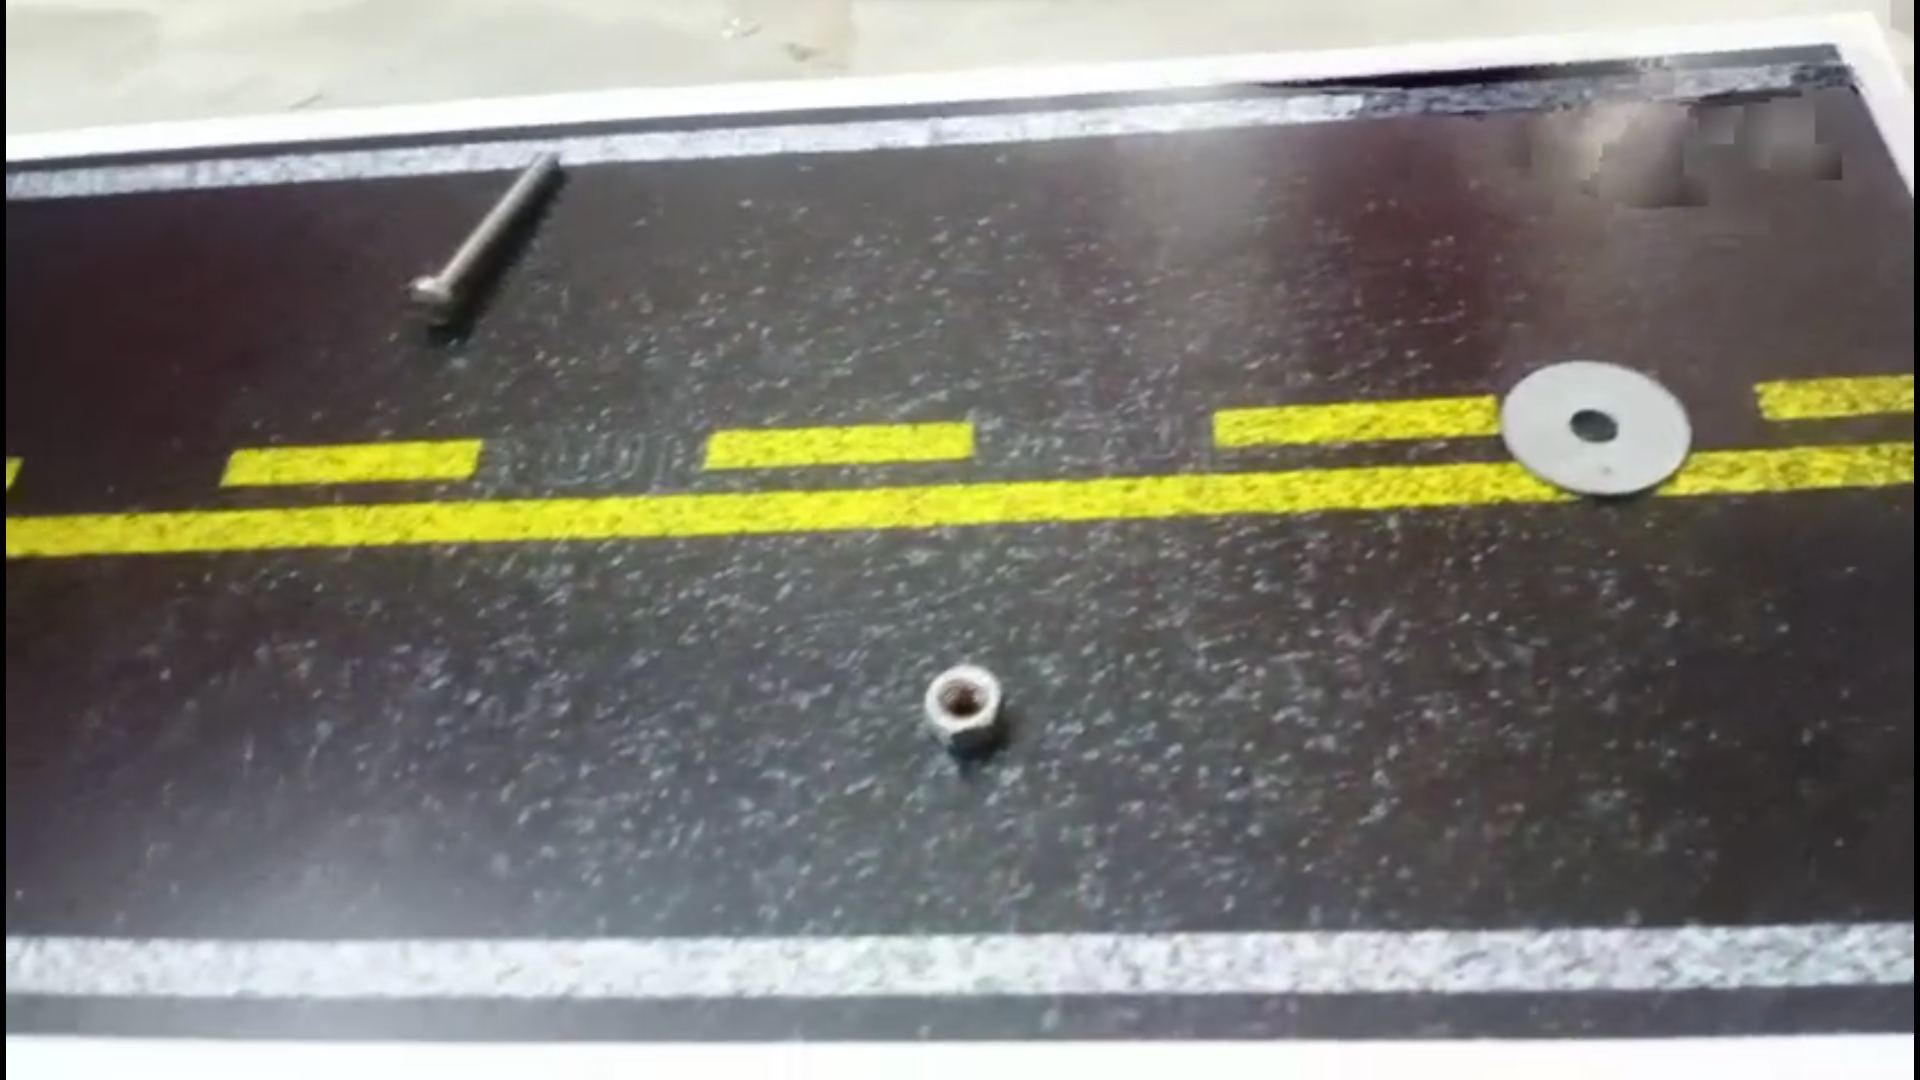metal: (384, 146, 575, 332), (1495, 353, 1698, 516), (905, 651, 1017, 762)
